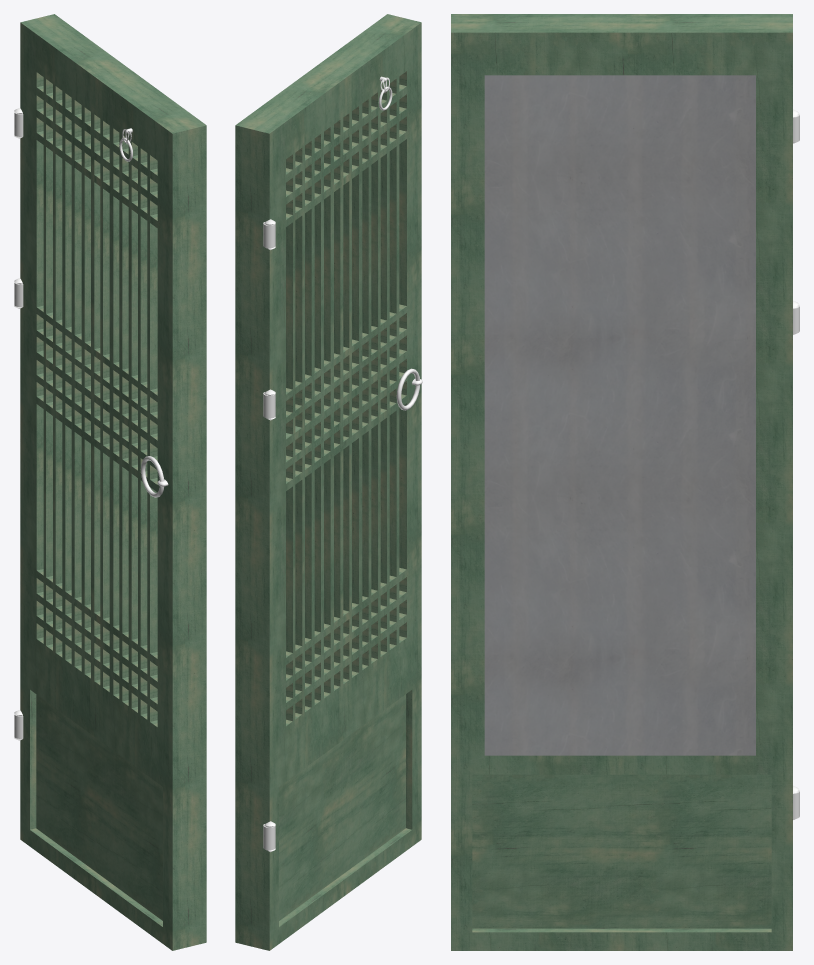
Rendered from SM_D_Wood_2.fbx.
3 renders of one model, left to right at view 1: azimuth 30°, elevation 25°; view 2: azimuth 150°, elevation 25°; view 3: azimuth 270°, elevation 25°, orthographic. The views are drawn at different scales.
Parts seen in each view (by area): view 1: SM_D_Wood_2_LOD0; view 2: SM_D_Wood_2_LOD0; view 3: SM_D_Wood_2_LOD0.
Boxes of the visible parts, x1,y1,x2,y2 form: SM_D_Wood_2_LOD0: (14,14,206,950); SM_D_Wood_2_LOD0: (235,14,422,950); SM_D_Wood_2_LOD0: (451,14,799,950).
Size of the model in its own units: 12.53 by 81.71 by 237.
3 materials, 3 textured.
